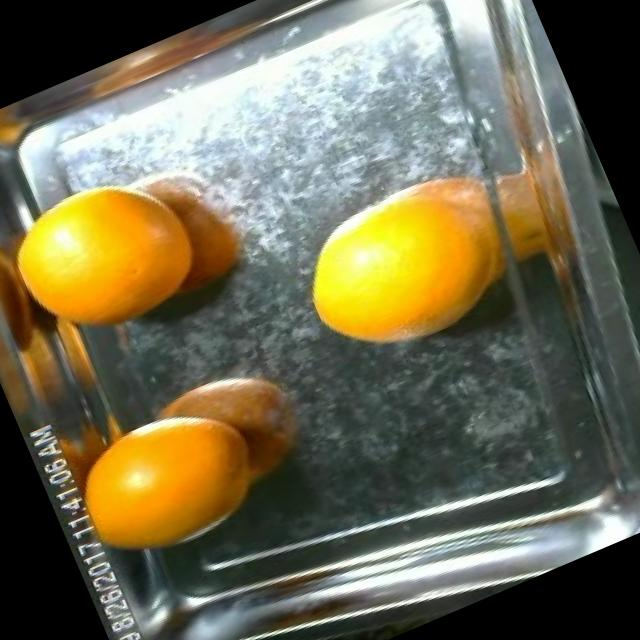Fruit: (264, 153, 520, 393), (0, 143, 238, 380), (44, 376, 292, 595)
